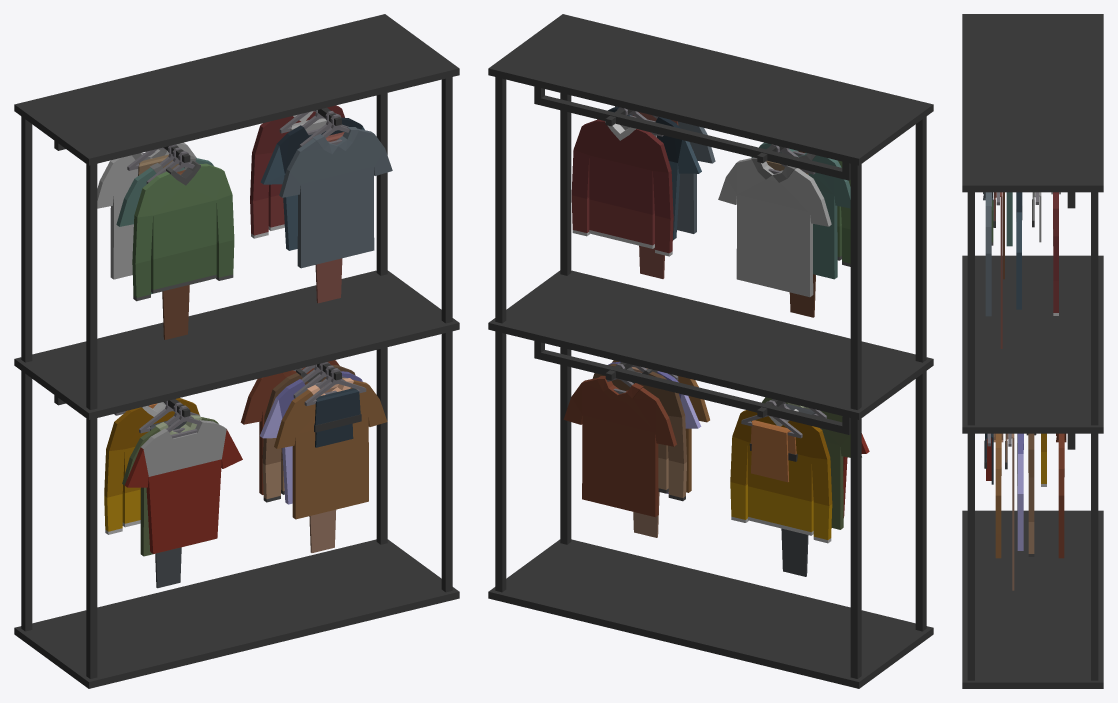
The model's file is SM_Props_Rack_05.fbx.
3 views of the same model, side by side, from view 1: azimuth 30°, elevation 25°; view 2: azimuth 150°, elevation 25°; view 3: azimuth 270°, elevation 25° (orthographic). The views are drawn at different scales.
Parts seen in each view (by area): view 1: SM_Props_Rack_05; view 2: SM_Props_Rack_05; view 3: SM_Props_Rack_05.
Boxes of the visible parts, left/top/right/bottom form: SM_Props_Rack_05: left=14, top=14, right=459, bottom=688; SM_Props_Rack_05: left=488, top=14, right=933, bottom=688; SM_Props_Rack_05: left=962, top=14, right=1103, bottom=688.
Bounding box in the file's own units: 2 × 2.73 × 0.6949.
